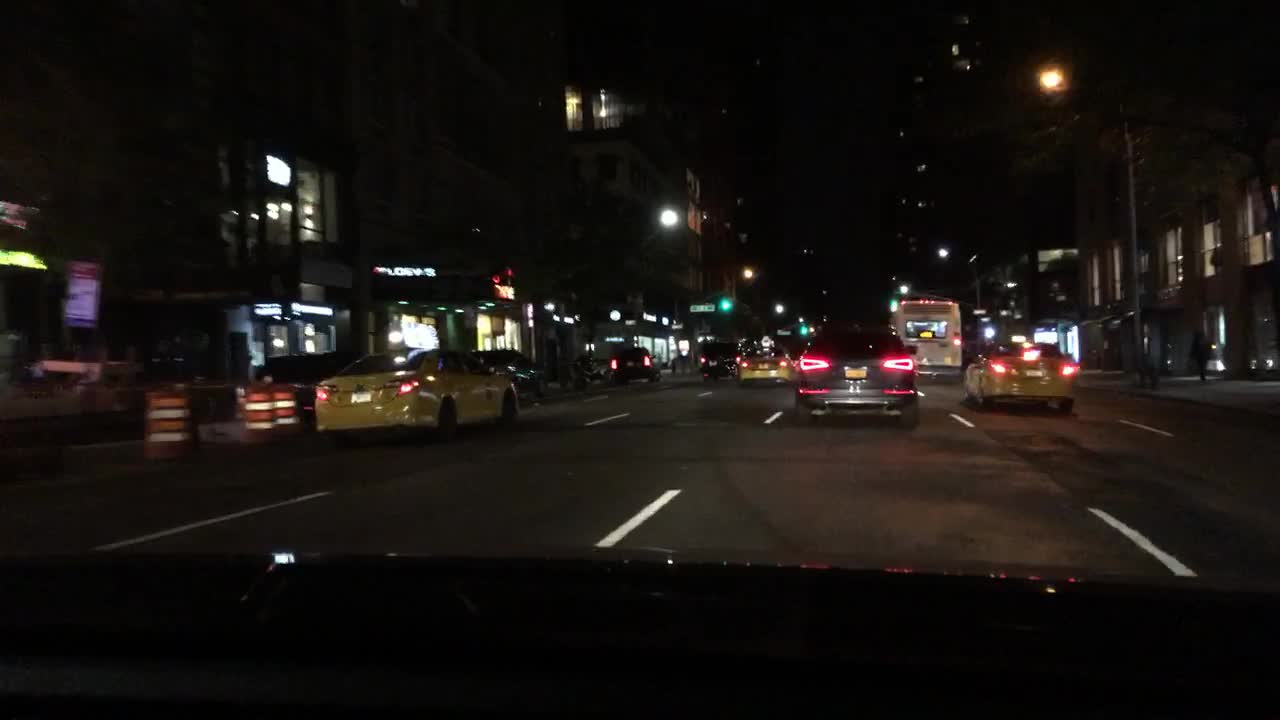bus: (885, 298, 963, 381)
car: (311, 343, 521, 449), (796, 321, 922, 431), (955, 338, 1081, 413), (264, 351, 356, 426), (467, 348, 546, 399), (734, 334, 801, 390), (606, 346, 661, 388), (696, 336, 742, 383)
motor: (572, 353, 608, 388)
person: (1190, 325, 1211, 384)
traffic light: (798, 319, 809, 339), (719, 296, 731, 311)
traffic sign: (690, 303, 714, 313)
